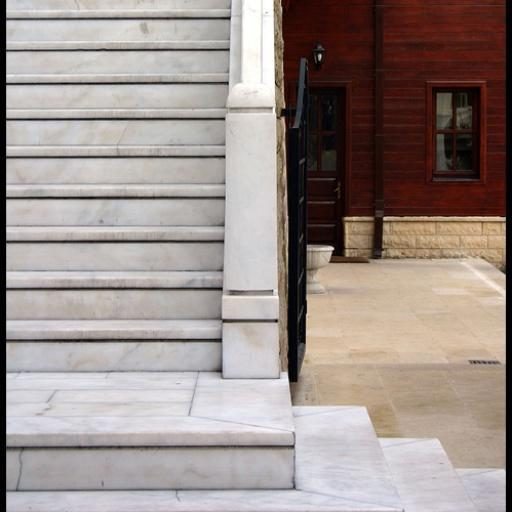stairs: (6, 0, 478, 511)
